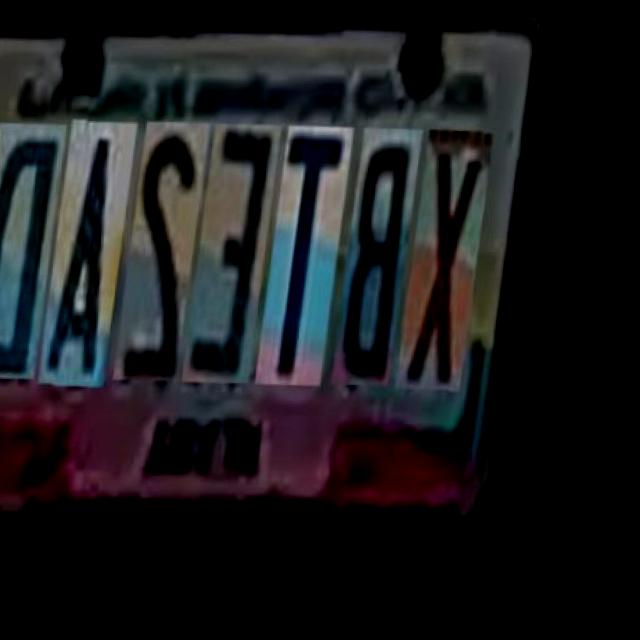2: (124, 130, 216, 393)
a: (49, 129, 144, 399)
b: (343, 133, 428, 397)
d: (0, 132, 72, 392)
e: (194, 130, 287, 395)
t: (266, 132, 359, 396)
x: (408, 135, 499, 399)
